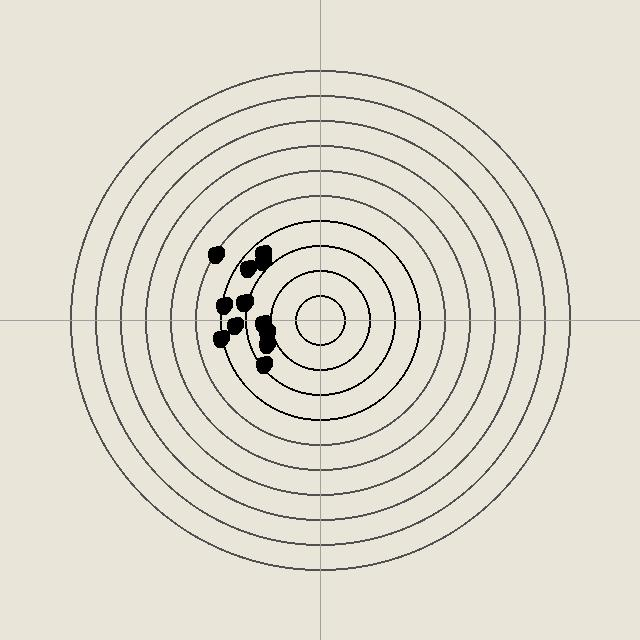good_group: (252, 313, 272, 333), (256, 322, 276, 342), (253, 354, 273, 374), (213, 295, 233, 315), (205, 244, 225, 264), (252, 243, 272, 263), (210, 328, 230, 348), (252, 251, 272, 271), (224, 315, 244, 335), (233, 292, 253, 312), (237, 258, 257, 278), (256, 334, 276, 354), (234, 292, 254, 312)
